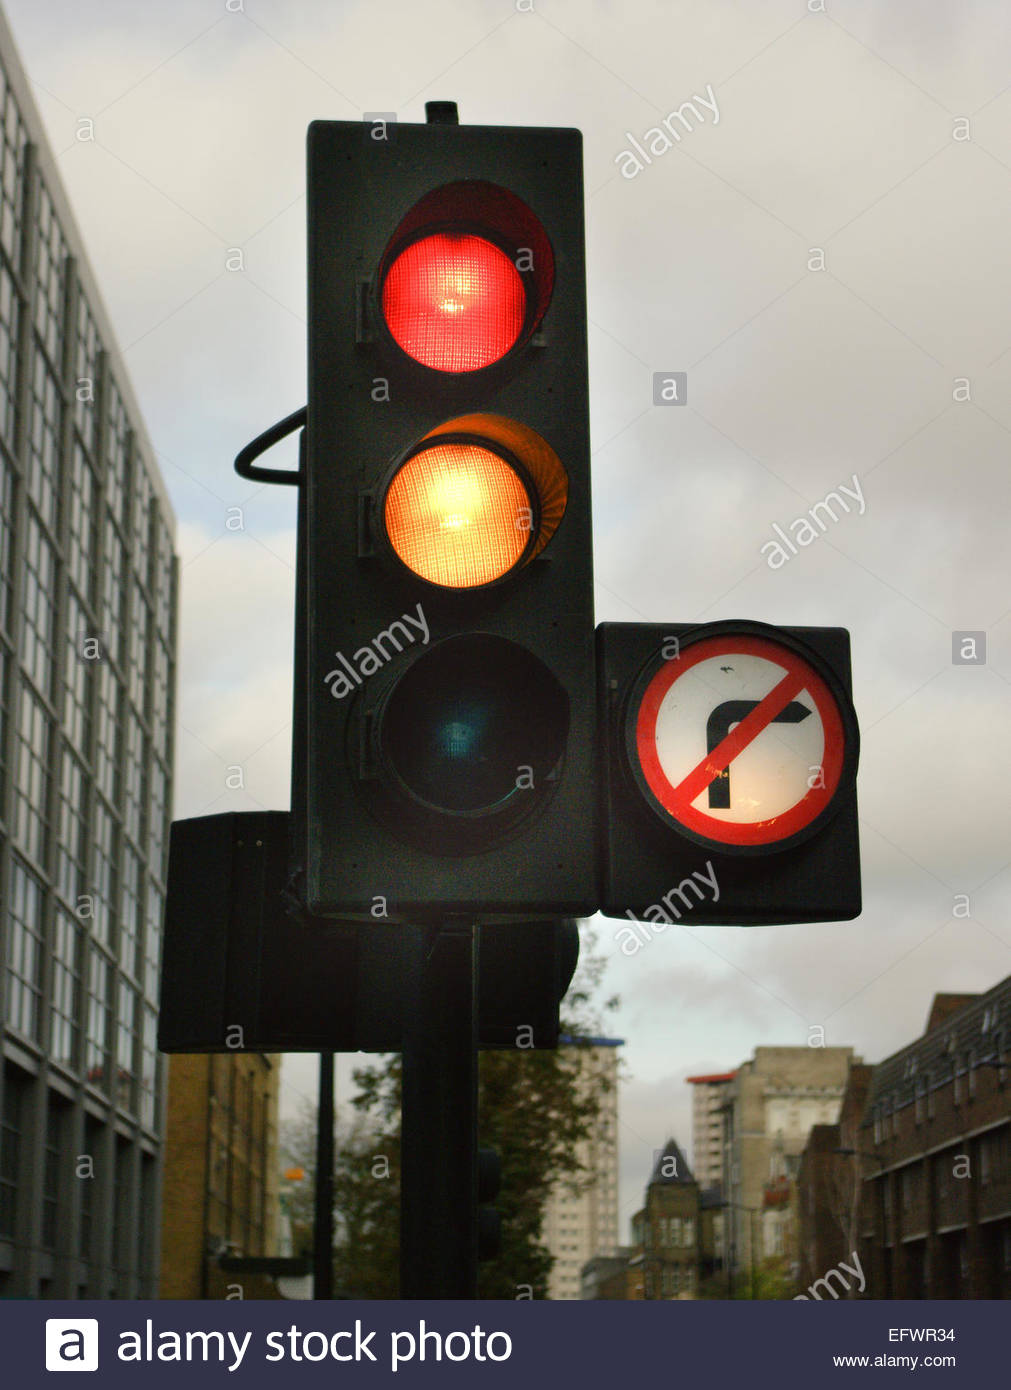No_right_turn: (634, 637, 847, 846)
